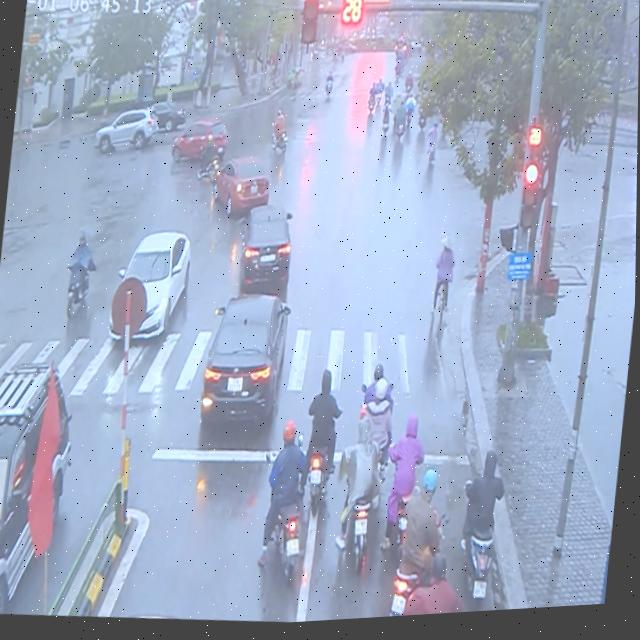Red: (516, 132, 546, 242), (297, 0, 323, 58)
